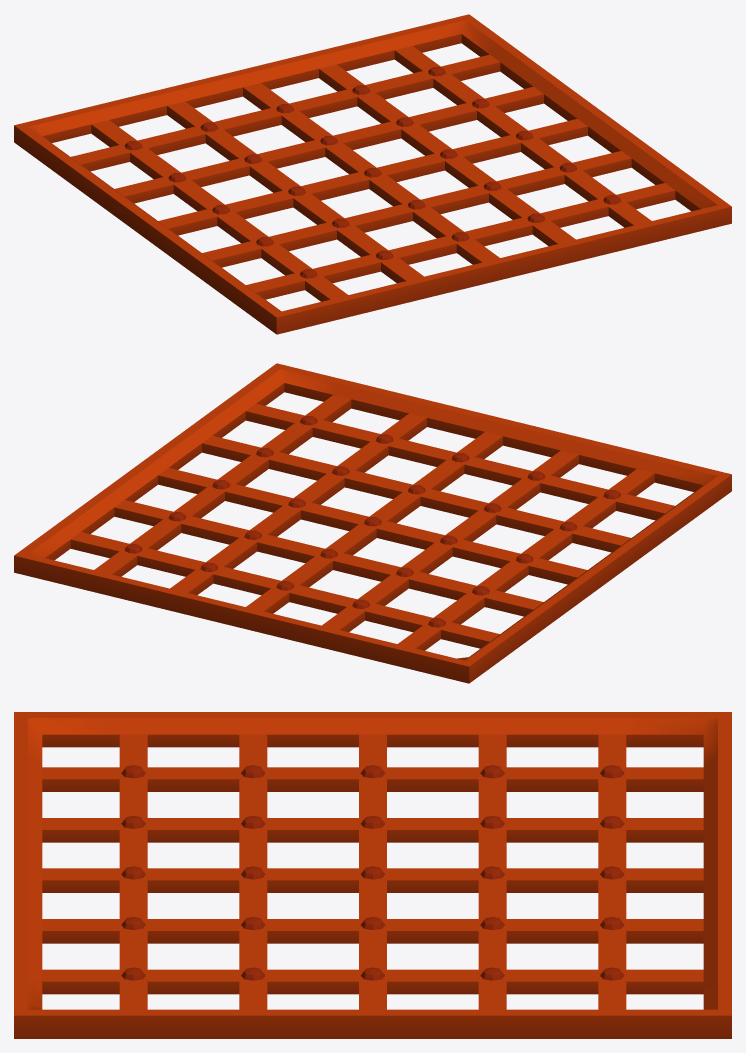
Rendered from Floor_E_Grate_01.glb.
3 renders of one model, top to bottom at view 1: azimuth 30°, elevation 25°; view 2: azimuth 150°, elevation 25°; view 3: azimuth 270°, elevation 25°, orthographic. The views are drawn at different scales.
Parts seen in each view (by area): view 1: Floor_E_Grate_01; view 2: Floor_E_Grate_01; view 3: Floor_E_Grate_01.
Part boxes in pixels (bbox=[...]): Floor_E_Grate_01: bbox=[14, 14, 731, 334]; Floor_E_Grate_01: bbox=[14, 363, 731, 683]; Floor_E_Grate_01: bbox=[14, 712, 731, 1038].
Bounding box in the file's own units: 4 × 0.1428 × 4.
Materials: 1 (1 with a texture image).
